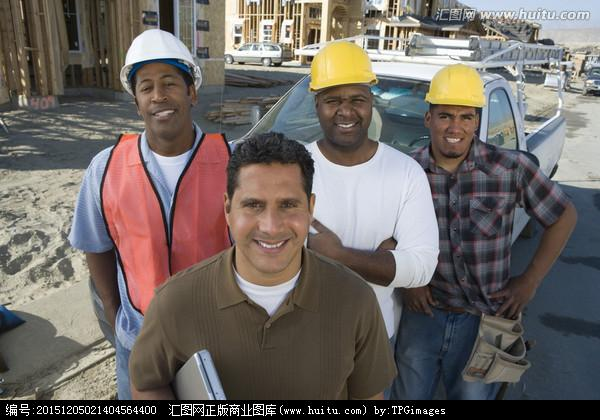helmet: (120, 30, 202, 91), (311, 40, 380, 93), (426, 64, 487, 108)
